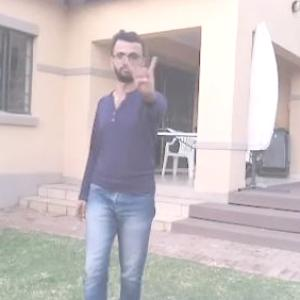takeoff-hand: (120, 50, 163, 103)
